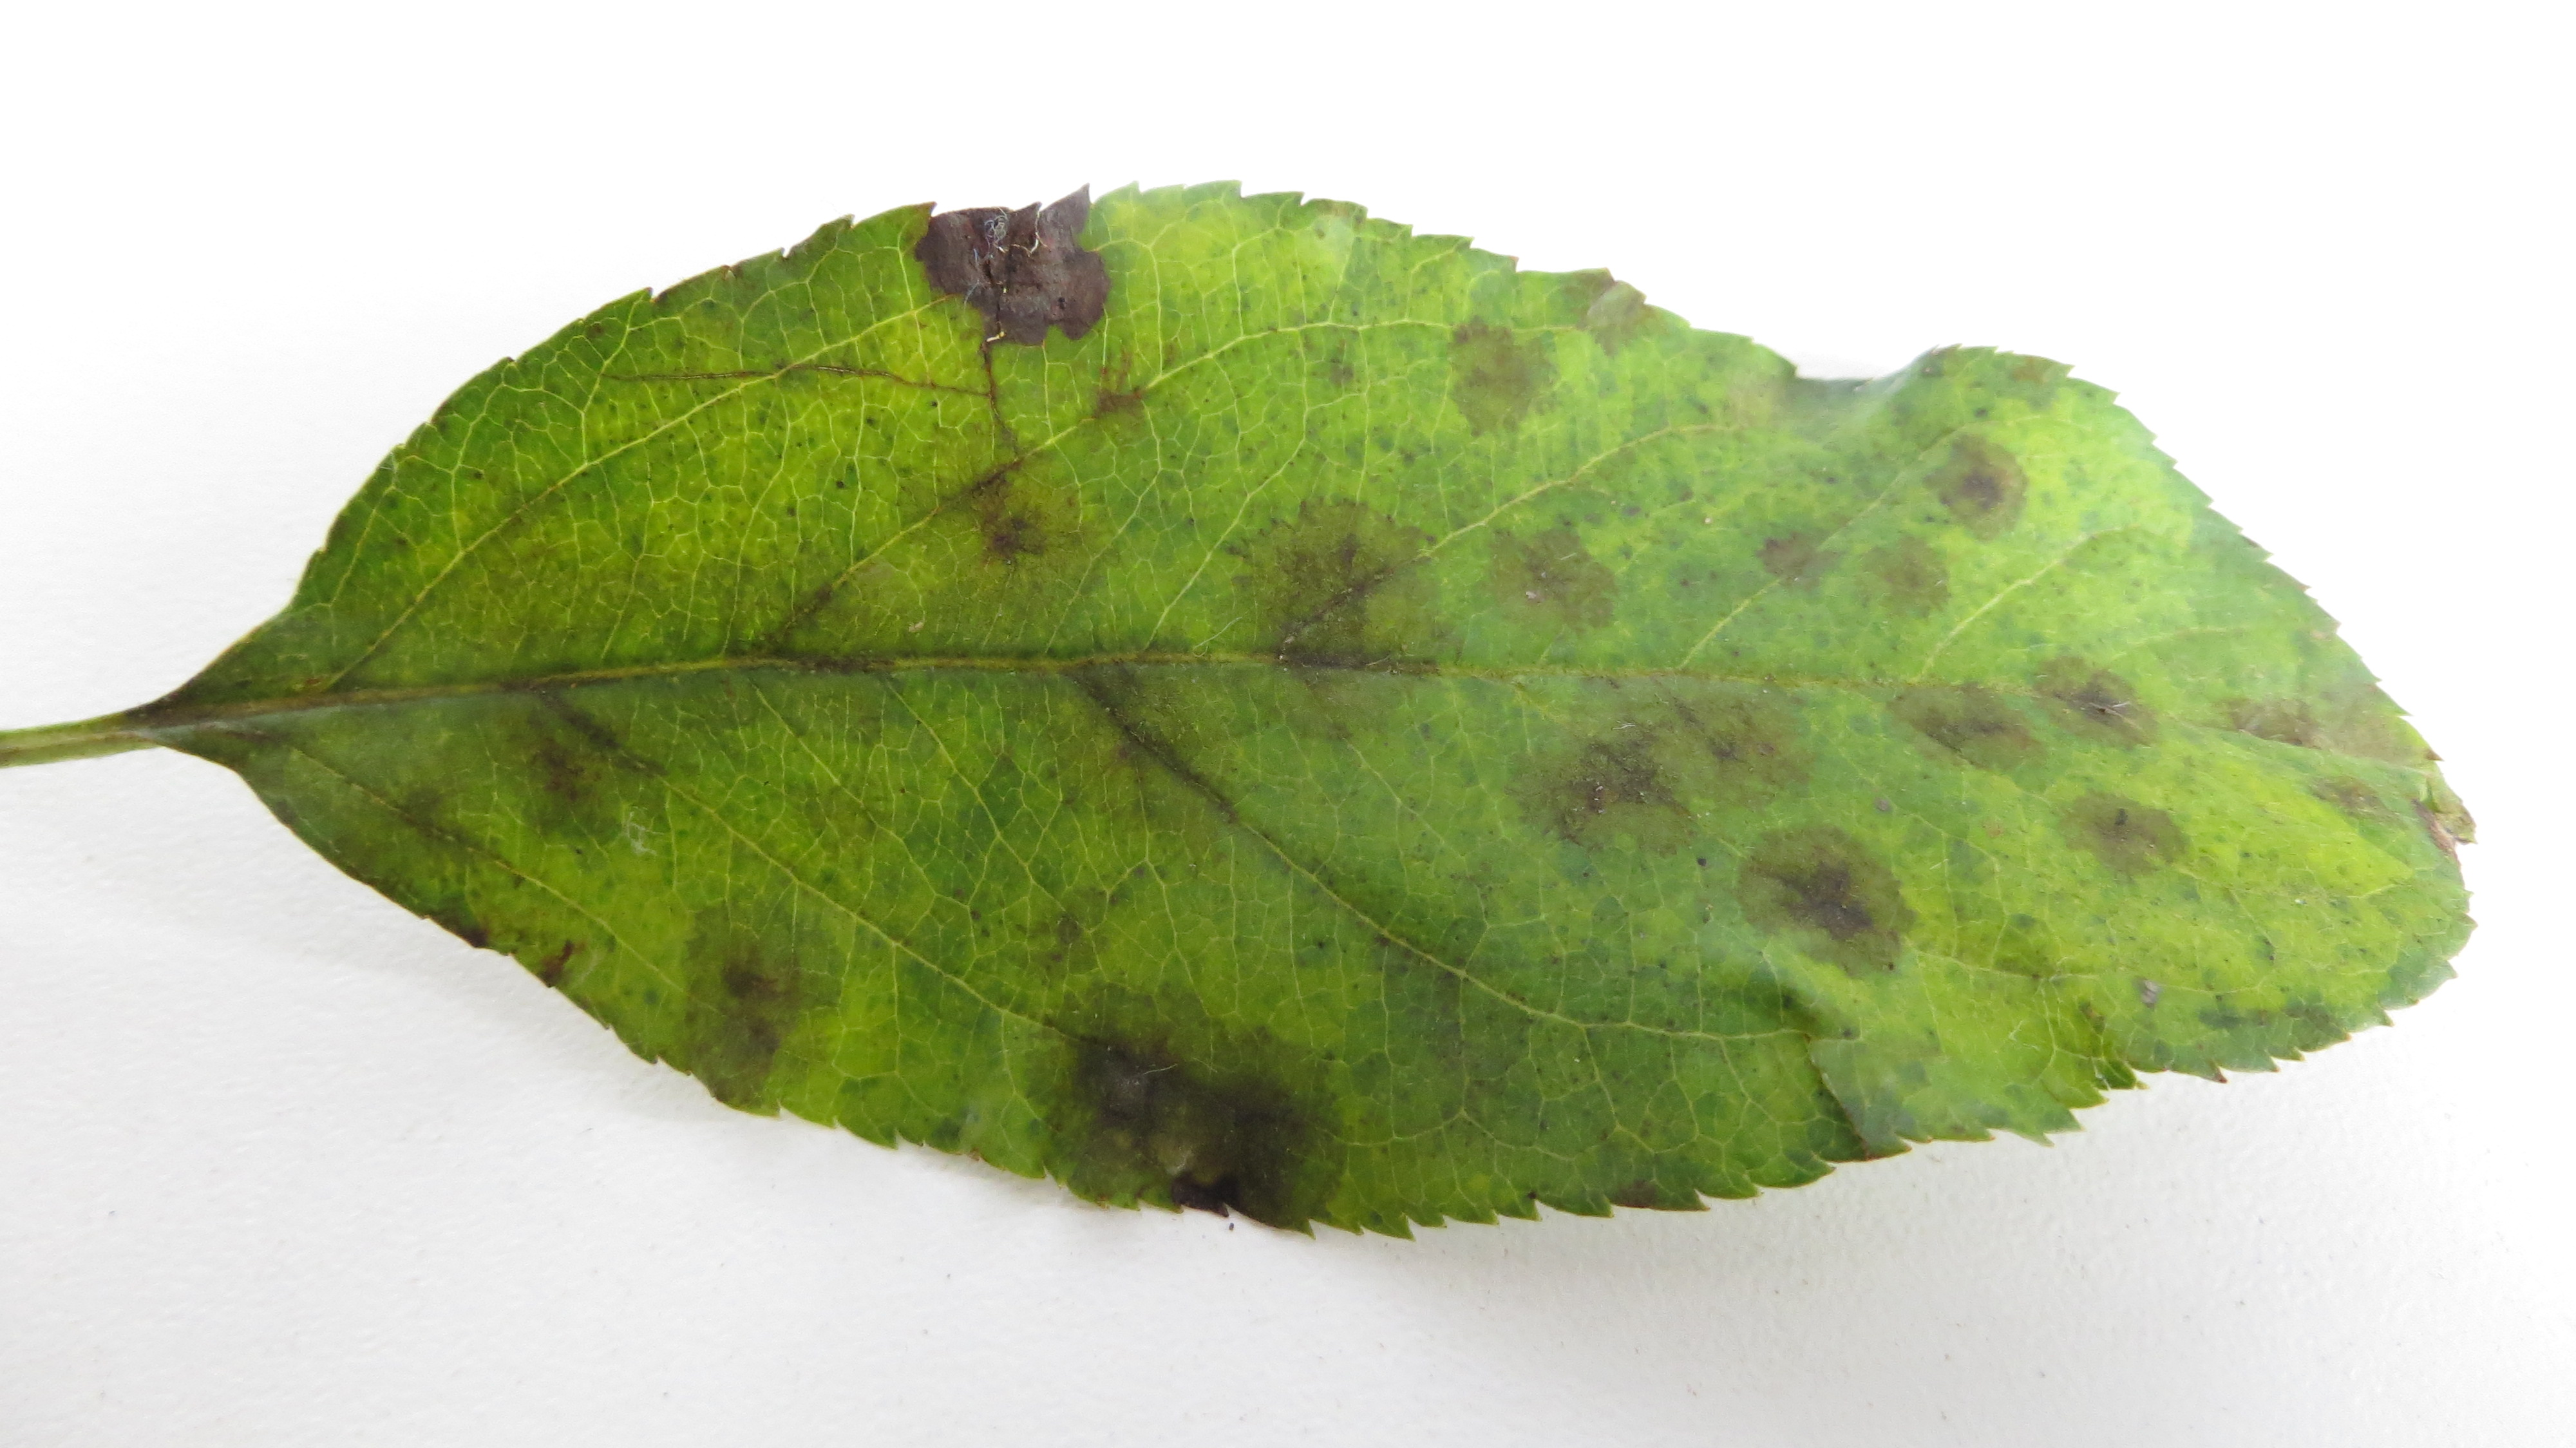sarna: (1019, 981, 1346, 1230), (1217, 492, 1444, 736), (495, 611, 679, 859), (667, 892, 849, 1112), (1046, 635, 1244, 837), (1713, 807, 1918, 986), (904, 193, 1122, 349), (1601, 660, 1819, 813), (1497, 729, 1695, 880), (1465, 506, 1640, 648), (927, 420, 1079, 579), (729, 565, 885, 712), (1421, 304, 1557, 450), (1925, 420, 2051, 574), (1881, 660, 2036, 779), (2043, 786, 2192, 883), (2040, 648, 2166, 758), (1734, 494, 1845, 611), (2231, 671, 2371, 756), (1546, 269, 1679, 356), (1854, 529, 1953, 625), (1062, 350, 1164, 434), (2307, 759, 2394, 830)
